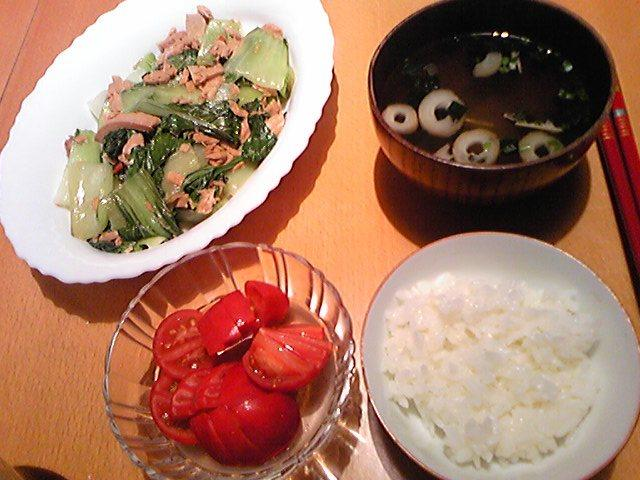rice: (381, 274, 603, 473)
